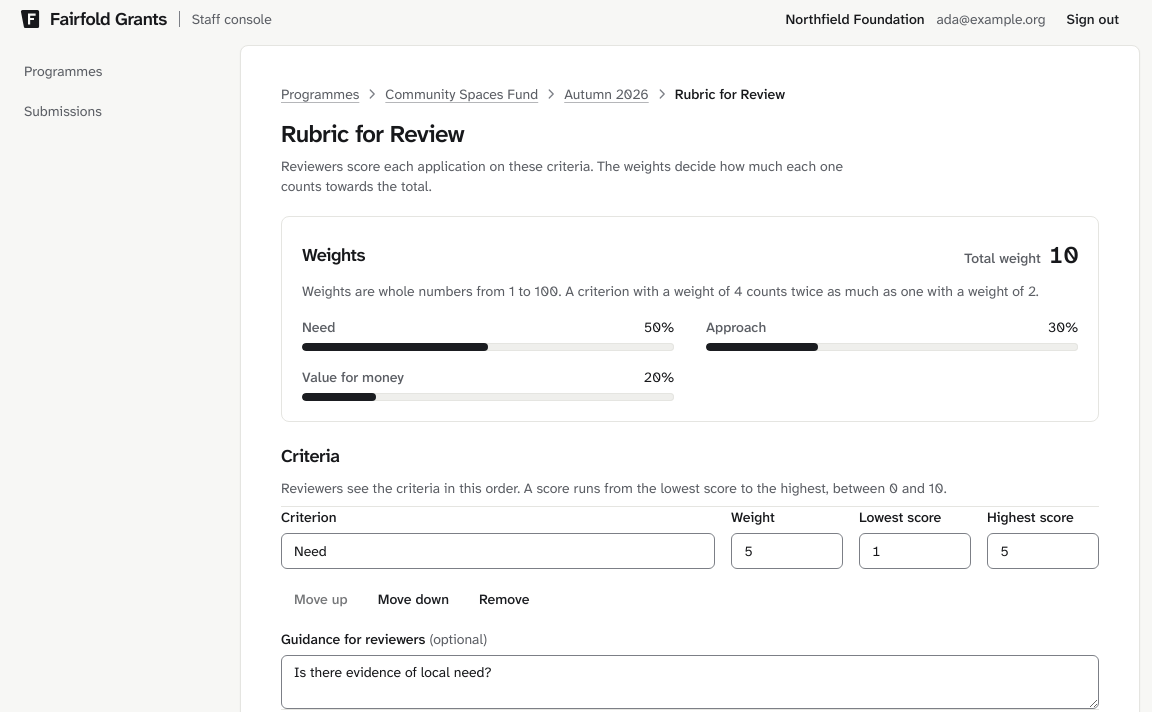
Test case: the rubric of a stage › shows the API's refusal beside the criterion it names
Check: the heading "Rubric for Review" is shown, box [281,118,464,150]
Step 1. Type "!" into the field showing "Need" → (498, 551), box [281,533,715,569]
(page scrolled)
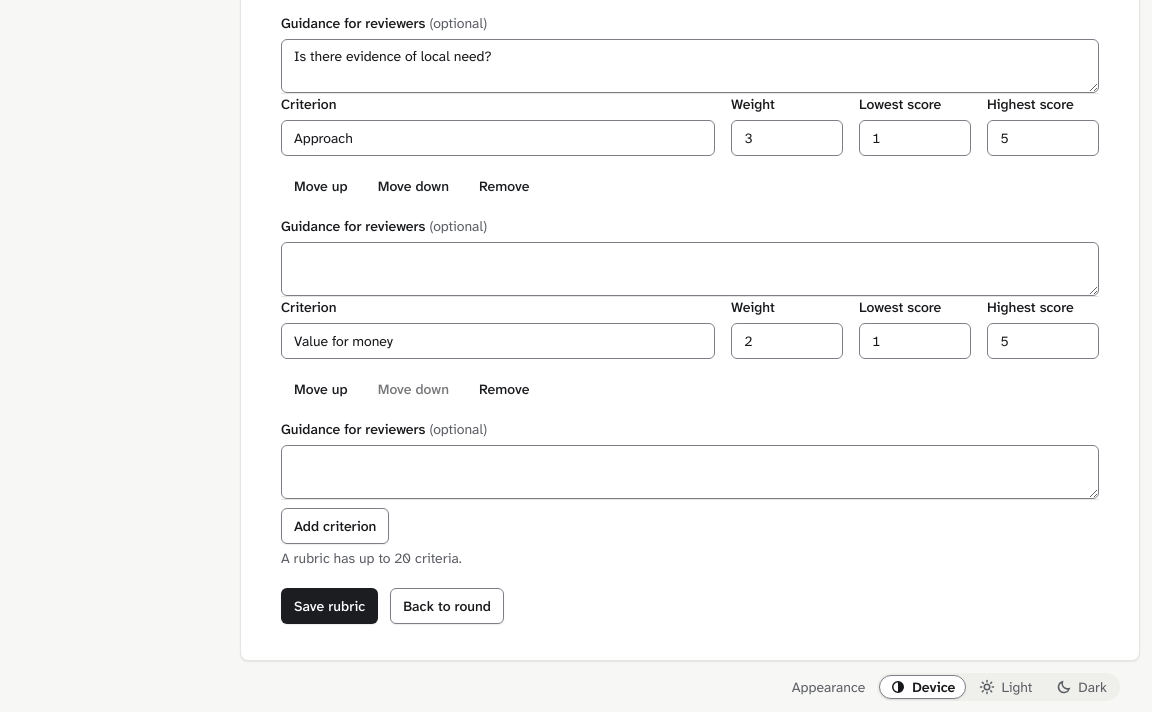
Step 2. Click the button "Save rubric" → (330, 606), box [281,588,378,624]
(page scrolled)
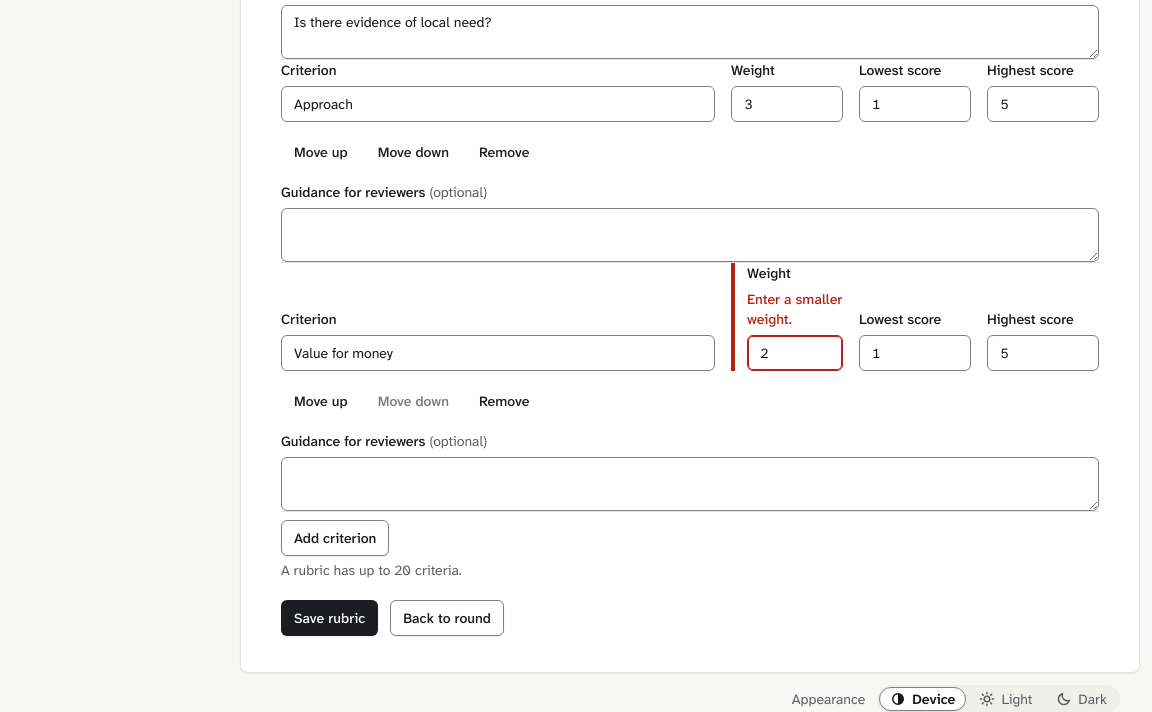
Check: the text "Enter a smaller weight." is shown 2 times
